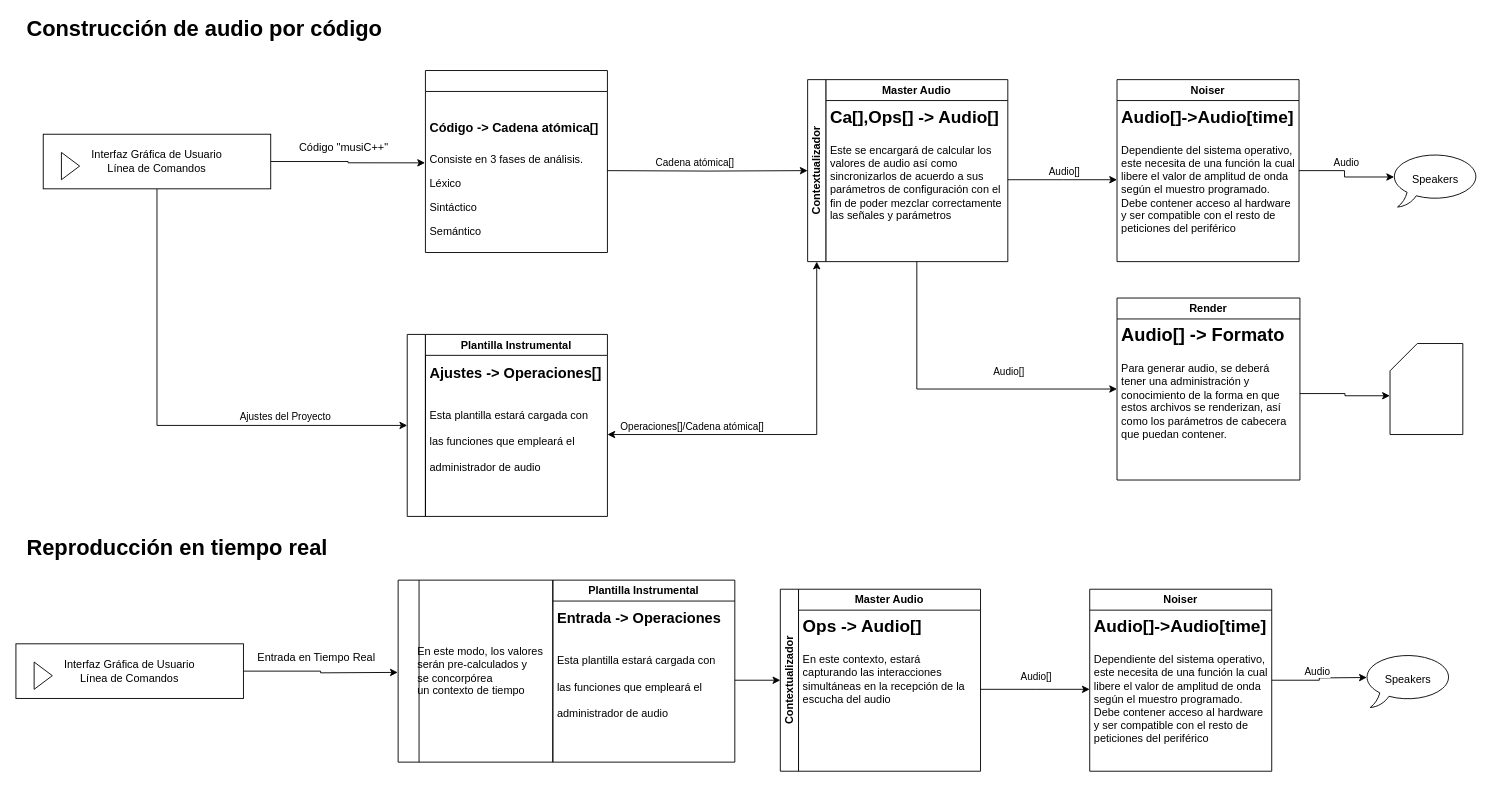
Some shapes in this 1497 by 787 pixel diagram are drawn without their labels. The shapes that lost their labels are listed below. From the top down, each one's box as (x1, y1, x2, y2) in pixels, then its label:
(425, 70, 607, 253): Compilador musiC++
(1389, 343, 1463, 435): .mp3 .wav
(406, 334, 425, 516): Manejador de plantillas
(397, 579, 553, 762): Escucha de Teclado
